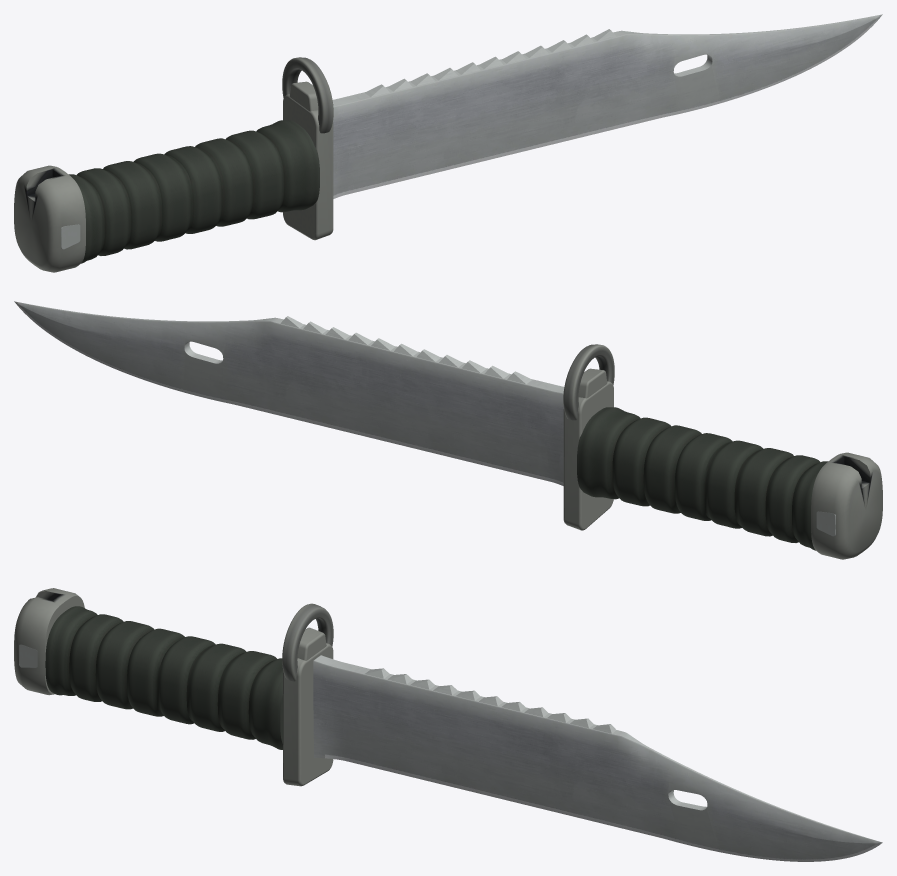
Rendered from m9_bayonet.glb.
3 renders of one model, top to bottom at view 1: azimuth 30°, elevation 25°; view 2: azimuth 150°, elevation 25°; view 3: azimuth 330°, elevation 25°, orthographic.
Visible parts, largest first — view 1: body; view 2: body; view 3: body.
Part boxes in pixels (x1,y1,x2,y2): body: (14, 14, 882, 272); body: (14, 301, 882, 559); body: (14, 588, 882, 861).
Size of the model in its own units: 0.372 by 0.072 by 0.0324.
Materials: 5 (5 with a texture image).
